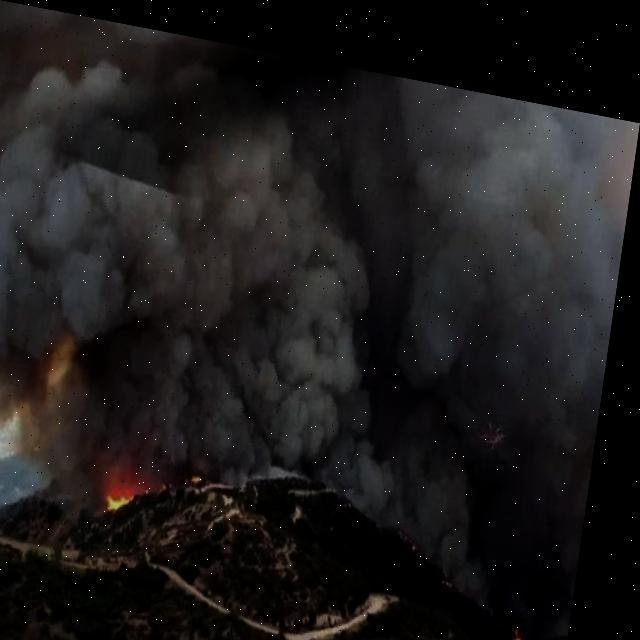Fire: (104, 461, 188, 517)
